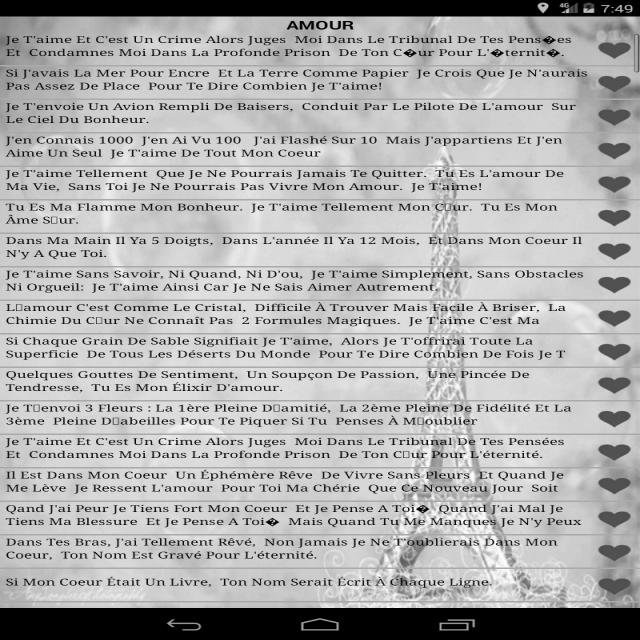TextView: (2, 430, 570, 462), (5, 499, 582, 529), (3, 297, 567, 327), (6, 34, 578, 59), (3, 229, 589, 249), (4, 131, 570, 149), (278, 16, 362, 32)
